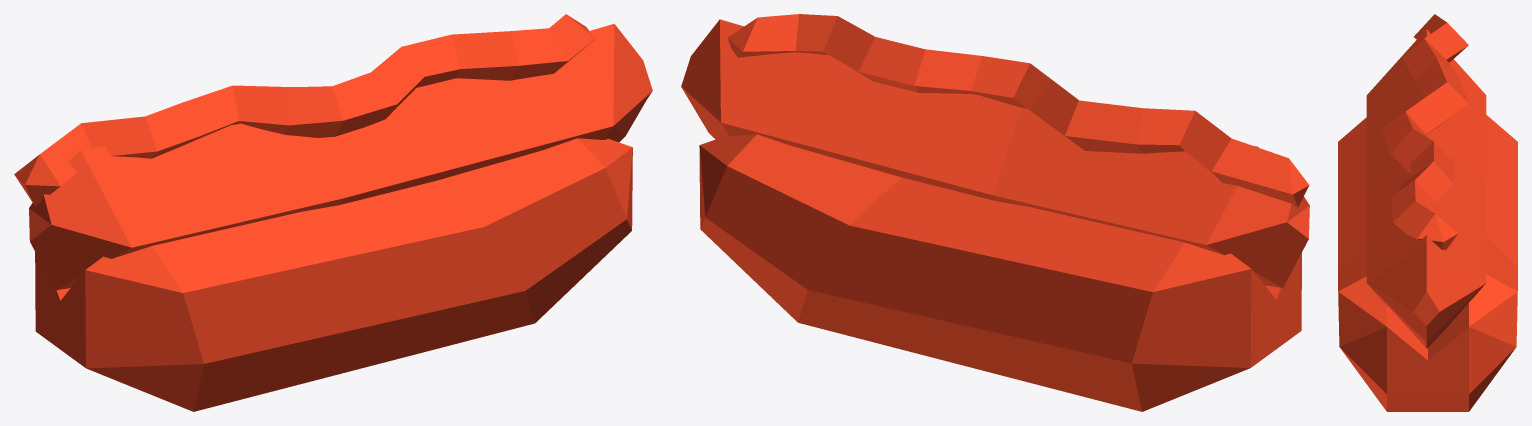
Rendered from SM_Hotdog_City.fbx.
3 renders of one model, left to right at view 1: azimuth 30°, elevation 25°; view 2: azimuth 150°, elevation 25°; view 3: azimuth 270°, elevation 25°, orthographic. The views are drawn at different scales.
Visible parts, largest first — view 1: SM_Hotdog_City; view 2: SM_Hotdog_City; view 3: SM_Hotdog_City.
Boxes of the visible parts, x1,y1,x2,y2 form: SM_Hotdog_City: (14,14,652,411); SM_Hotdog_City: (681,14,1309,411); SM_Hotdog_City: (1338,14,1517,411).
Size of the model in its own units: 0.2803 by 0.1241 by 0.0866.
